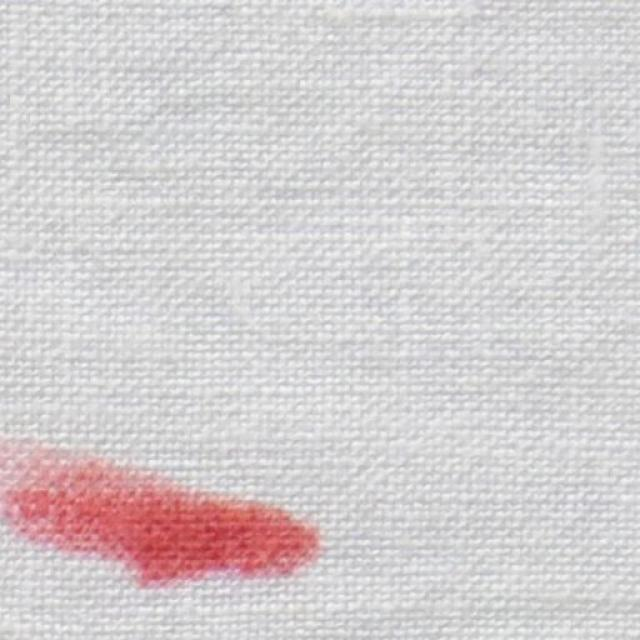Stain: (0, 1, 640, 640)
